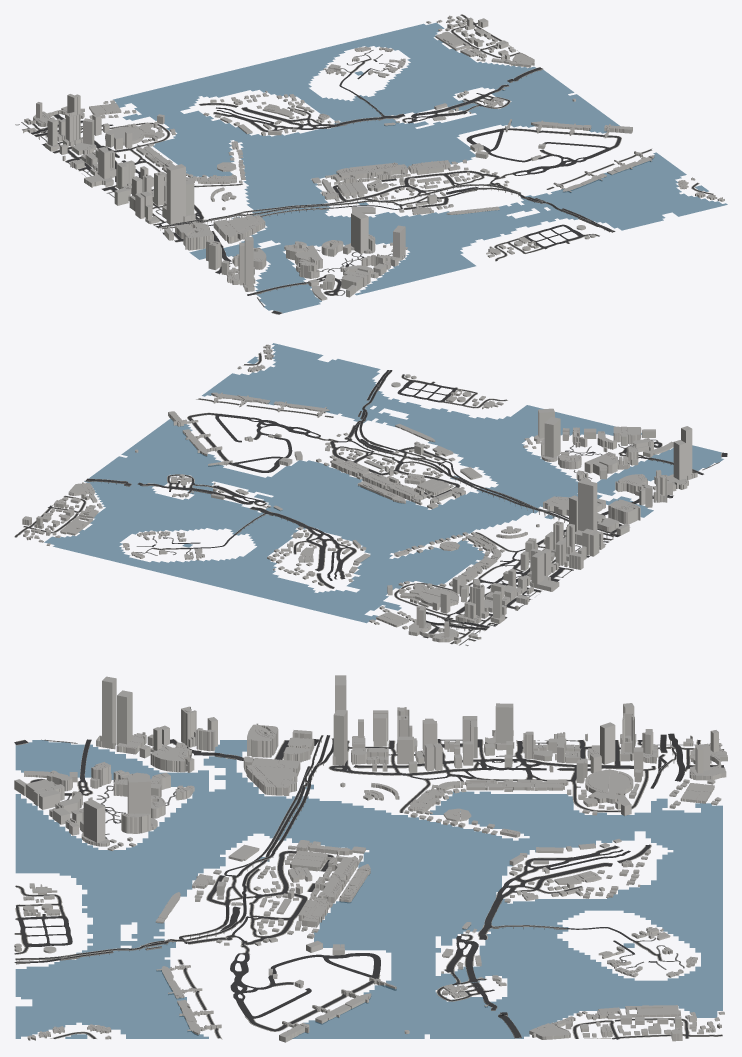
The model's file is chunk_8_5.glb.
The picture shows the model from 3 angles, top to bottom: view 1: azimuth 30°, elevation 25°; view 2: azimuth 150°, elevation 25°; view 3: azimuth 270°, elevation 25°; orthographic projection. The views are drawn at different scales.
Visible parts, largest first — view 1: Water_8_5, Buildings_8_5, Roads_8_5, RoadSides_8_5, Filler_8_5; view 2: Water_8_5, Buildings_8_5, Roads_8_5, RoadSides_8_5, Filler_8_5; view 3: Water_8_5, Buildings_8_5, Roads_8_5, Filler_8_5, RoadSides_8_5.
Boxes of the visible parts, x1,y1,x2,y2 form: Water_8_5: (113, 22, 727, 313); Buildings_8_5: (23, 15, 724, 300); Roads_8_5: (15, 14, 713, 314); RoadSides_8_5: (22, 14, 713, 314); Filler_8_5: (50, 18, 515, 286); Water_8_5: (44, 343, 723, 622); Buildings_8_5: (22, 344, 697, 644); Roads_8_5: (15, 353, 727, 645); RoadSides_8_5: (14, 352, 727, 644); Filler_8_5: (24, 428, 676, 629); Water_8_5: (15, 740, 722, 1038); Buildings_8_5: (14, 675, 727, 1042); Roads_8_5: (14, 733, 724, 1039); Filler_8_5: (69, 717, 724, 1037); RoadSides_8_5: (14, 734, 724, 1039).
Size of the model in its own units: 2102 by 242 by 2067.
